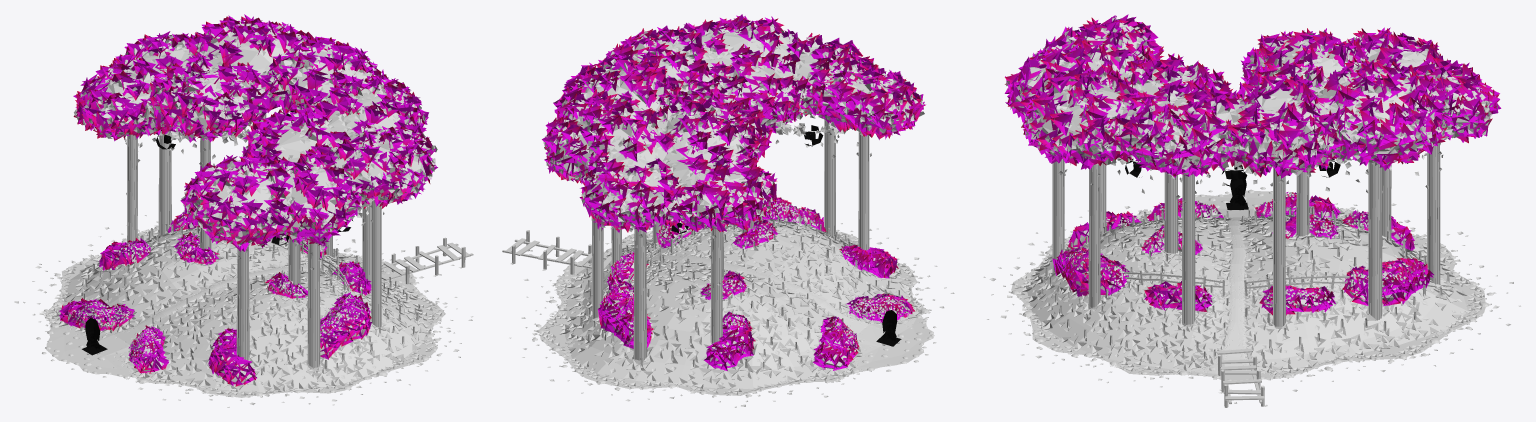
The model's file is WIP_ForestScene_Mesh.fbx.
The picture shows the model from 3 angles, left to right: view 1: azimuth 30°, elevation 25°; view 2: azimuth 150°, elevation 25°; view 3: azimuth 270°, elevation 25°; orthographic projection. The views are drawn at different scales.
Parts seen in each view (by area): view 1: Base_Mesh, VFX_Mesh; view 2: Base_Mesh, VFX_Mesh; view 3: Base_Mesh, VFX_Mesh.
Boxes of the visible parts, x1=… form: Base_Mesh: x1=14, y1=14, x2=473, y2=407; VFX_Mesh: x1=82, y1=108, x2=352, y2=355; Base_Mesh: x1=502, y1=14, x2=954, y2=407; VFX_Mesh: x1=671, y1=125, x2=901, y2=346; Base_Mesh: x1=983, y1=14, x2=1520, y2=407; VFX_Mesh: x1=1125, y1=158, x2=1408, y2=209.
Size of the model in its own units: 2608 by 1408 by 2627.
